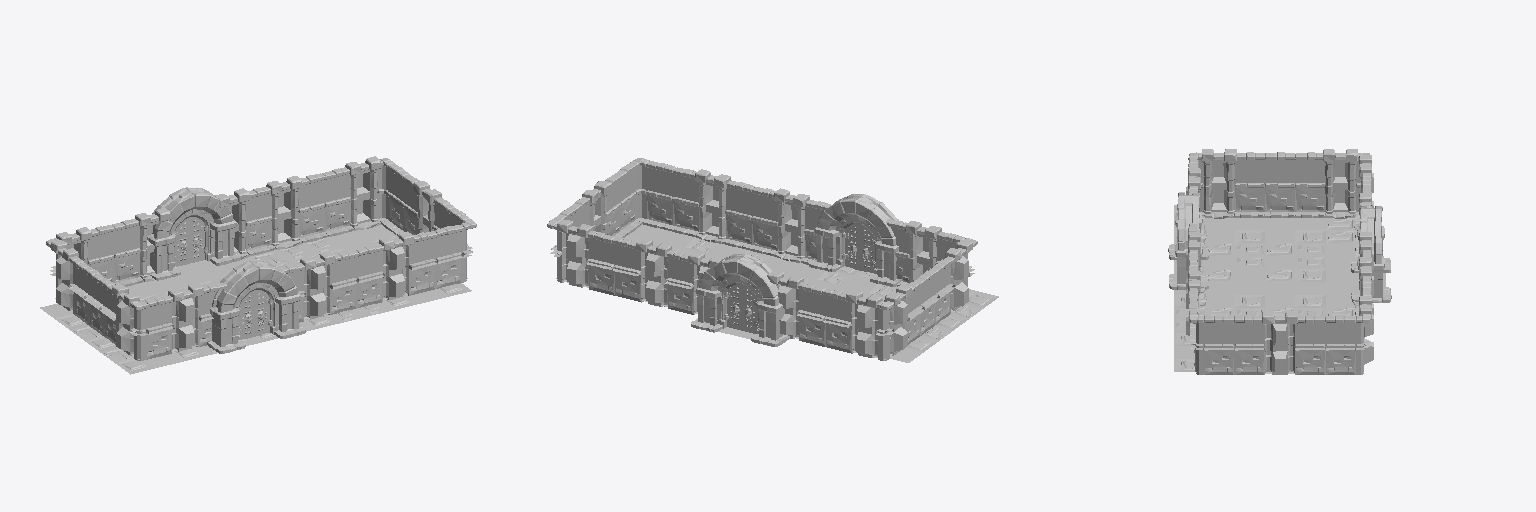
The model's file is ghost-train.obj.
3 views of the same model, side by side, from view 1: azimuth 30°, elevation 25°; view 2: azimuth 150°, elevation 25°; view 3: azimuth 270°, elevation 25° (orthographic).
Parts seen in each view (by area): view 1: walls_Untitled.141, floor_Untitled.103, door_left_Untitled.022, door_left.001_Untitled.334, rood_right.001_Untitled.333, rood_right_Untitled.021; view 2: walls_Untitled.141, floor_Untitled.103, door_left_Untitled.022, rood_right.001_Untitled.333, door_left.001_Untitled.334, rood_right_Untitled.021; view 3: walls_Untitled.141, floor_Untitled.103.
Boxes of the visible parts, box(x1,y1,x2,y2) form: walls_Untitled.141: box(46, 156, 476, 360); floor_Untitled.103: box(40, 225, 471, 374); door_left_Untitled.022: box(190, 217, 207, 262); door_left.001_Untitled.334: box(239, 290, 254, 339); rood_right.001_Untitled.333: box(255, 290, 272, 336); rood_right_Untitled.021: box(174, 217, 189, 266); walls_Untitled.141: box(547, 158, 977, 360); floor_Untitled.103: box(624, 224, 998, 362); door_left_Untitled.022: box(725, 284, 742, 330); rood_right.001_Untitled.333: box(842, 224, 859, 270); door_left.001_Untitled.334: box(860, 224, 875, 272); rood_right_Untitled.021: box(743, 285, 758, 333); walls_Untitled.141: box(1168, 149, 1391, 374); floor_Untitled.103: box(1174, 205, 1385, 371).
Bounding box in the file's own units: 13.58 × 2.66 × 7.35.